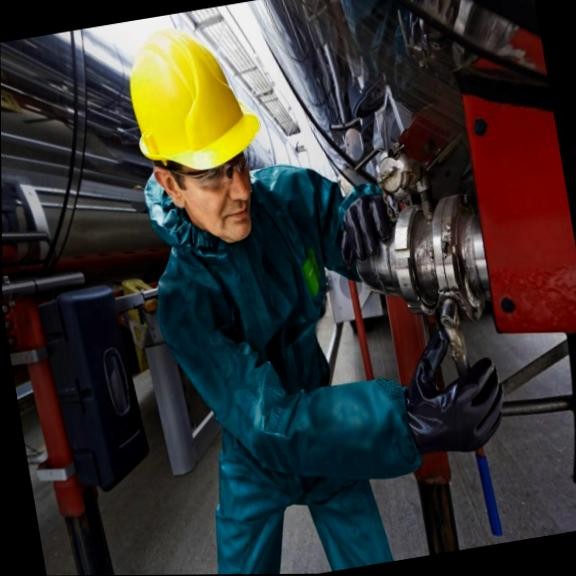no_safety_vest: (150, 218, 385, 508)
